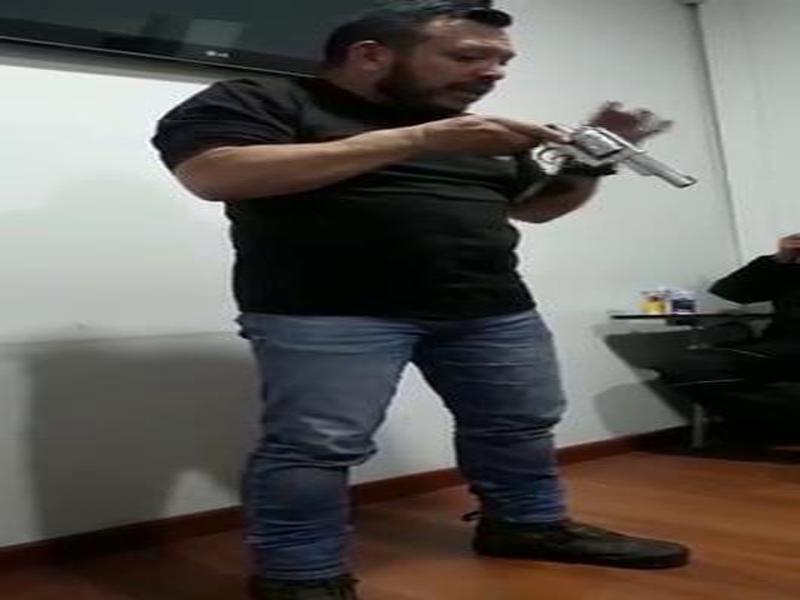Revolver: (493, 96, 712, 208)
